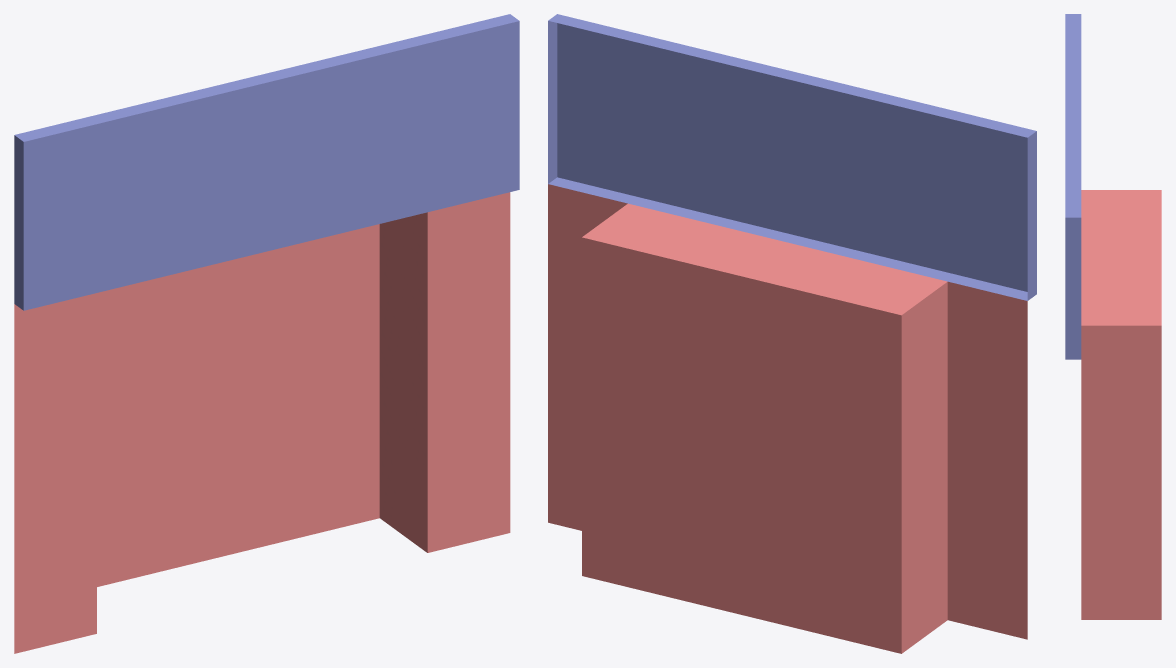
Rendered from Entrance1.FBX.
3 renders of one model, left to right at view 1: azimuth 30°, elevation 25°; view 2: azimuth 150°, elevation 25°; view 3: azimuth 270°, elevation 25°, orthographic. The views are drawn at different scales.
Visible parts, largest first — view 1: Box428; view 2: Box428; view 3: Box428.
Boxes of the visible parts, x1,y1,x2,y2 form: Box428: (14,14,519,653); Box428: (548,14,1036,653); Box428: (1065,14,1161,619).
Bounding box in the file's own units: 300 × 300 × 60.
